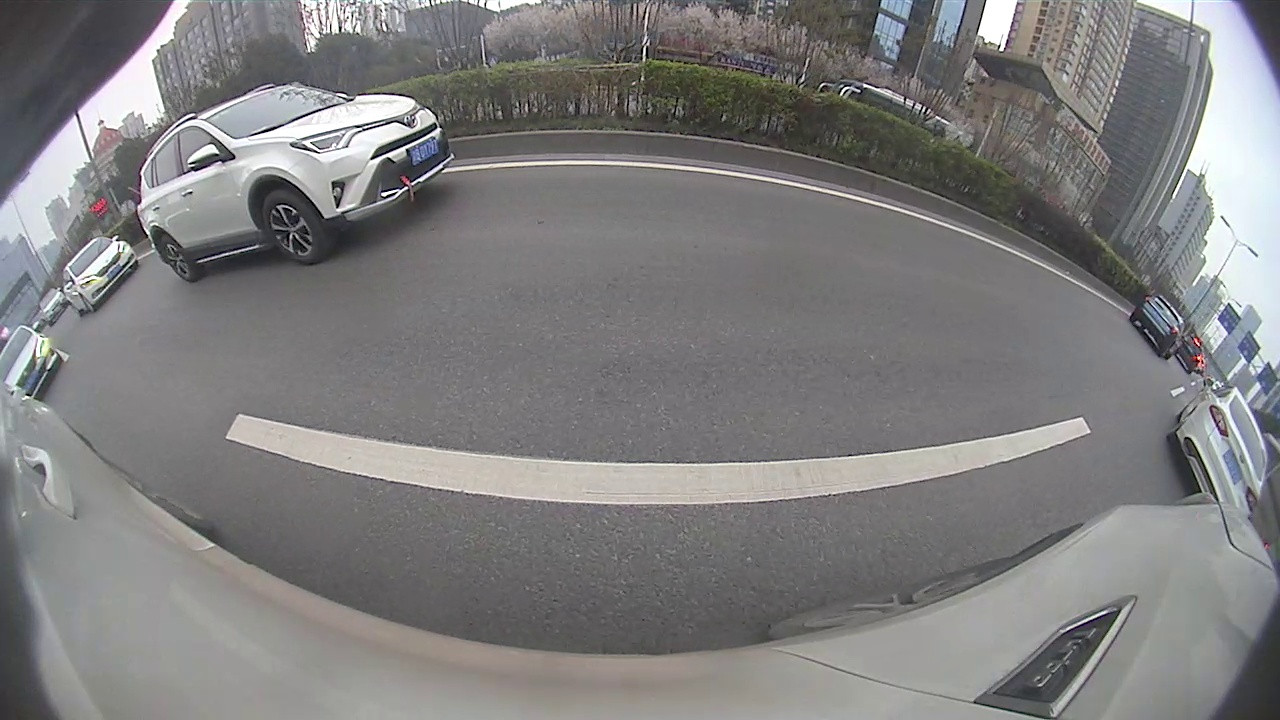car: (135, 82, 457, 283), (1166, 376, 1270, 513), (59, 232, 140, 316), (1, 323, 63, 400), (1129, 290, 1188, 359)
front: (261, 197, 321, 264)
rear: (160, 236, 193, 283)
